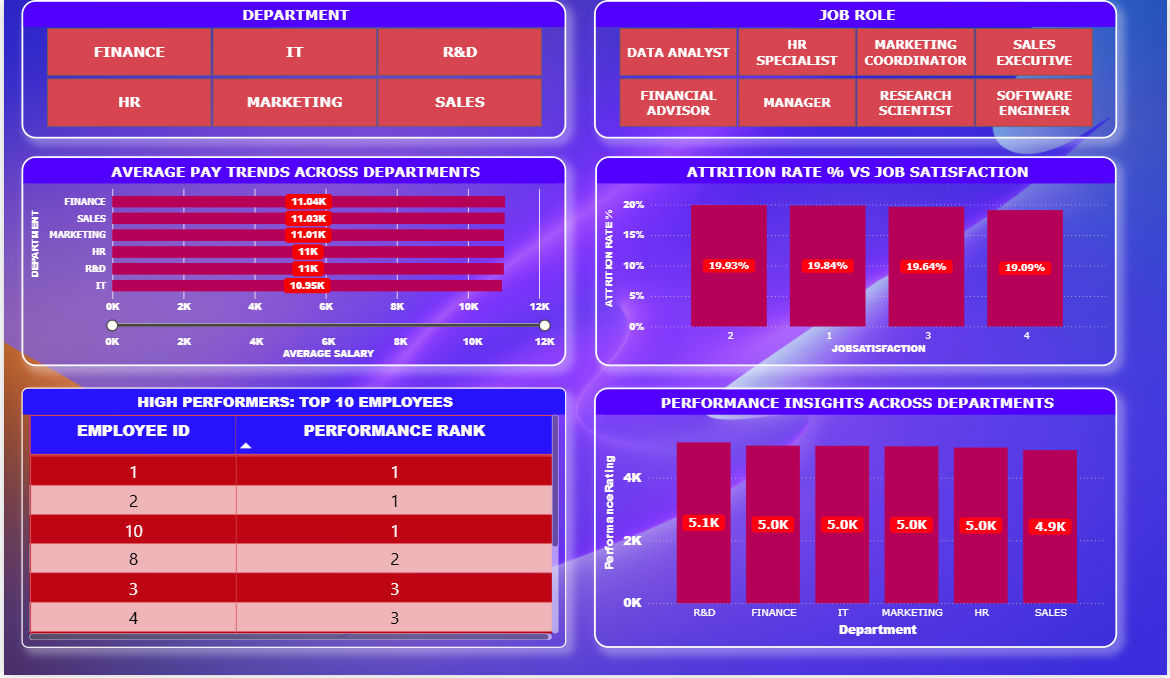

Layout of this report page (visuals, bound fields, positions):
{"tool":"powerbi","page":{"name":"WORKFORCE SATISFACTION & PERFORMANCE TRENDS","canvas":[1350,900],"ordinal":2},"visuals":[{"type":"barChart","title":"AVERAGE PAY TRENDS ACROSS DEPARTMENTS","fields":{"Category":["employee_dataset_30000.Department"],"Y":["employee_dataset_30000.Average Salary"]},"box":[0,252.5,616.2,280],"z":0},{"type":"clusteredColumnChart","title":"ATTRITION RATE % VS JOB SATISFACTION","fields":{"Category":["employee_dataset_30000.JobSatisfaction"],"Y":["employee_dataset_30000.Attrition Rate"]},"box":[656.2,252.5,671.2,280],"z":1000},{"type":"tableEx","title":"HIGH PERFORMERS: TOP 10 EMPLOYEES","fields":{"Values":["employee_dataset_30000.EmployeeID","employee_dataset_30000.Performance Rank Measure"]},"box":[0,552.5,616.2,347.5],"z":2000},{"type":"columnChart","title":"PERFORMANCE INSIGHTS ACROSS DEPARTMENTS","fields":{"Category":["employee_dataset_30000.Department"],"Y":["CountNonNull(employee_dataset_30000.PerformanceRating)"]},"box":[656.2,552.5,671.2,347.5],"z":3000},{"type":"slicer","title":"DEPARTMENT","fields":{"Values":["employee_dataset_30000.Department"]},"box":[0,0,665,185],"z":4000},{"type":"slicer","title":"DEPARTMENT","fields":{"Values":["employee_dataset_30000.JobRole"]},"box":[685,0,665,185],"z":4001}]}

Visuals, with their boxes on the page's 1350x900 design canvas (x1, y1, x2, y2). These are canvas units, not pixel positions in the 1170x678 screenshot, which may show the page scaled, cropped or inside an application window:
"AVERAGE PAY TRENDS ACROSS DEPARTMENTS" barChart: (0, 252, 616, 532)
"ATTRITION RATE % VS JOB SATISFACTION" clusteredColumnChart: (656, 252, 1327, 532)
"HIGH PERFORMERS: TOP 10 EMPLOYEES" tableEx: (0, 552, 616, 900)
"PERFORMANCE INSIGHTS ACROSS DEPARTMENTS" columnChart: (656, 552, 1327, 900)
"DEPARTMENT" slicer: (0, 0, 665, 185)
"DEPARTMENT" slicer: (685, 0, 1350, 185)
